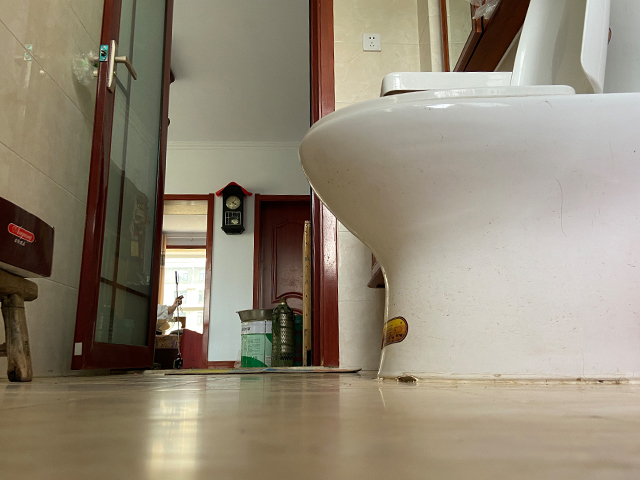cabinet: (297, 1, 640, 383)
carpet: (161, 366, 363, 375)
